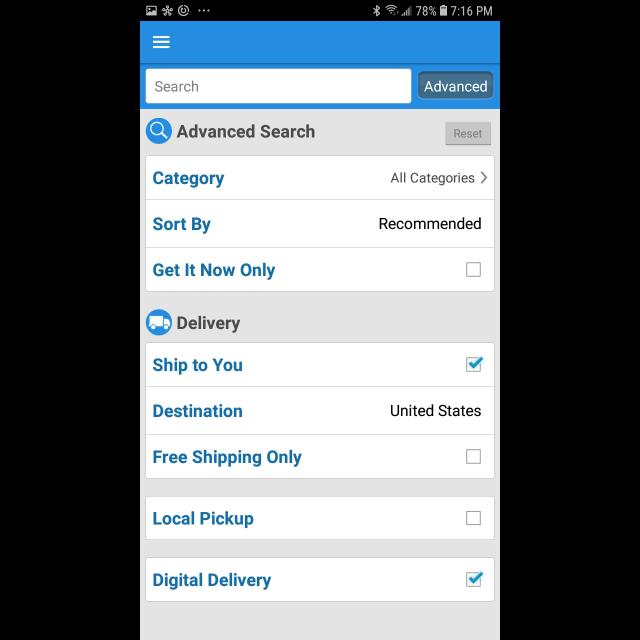checkbox: (466, 356, 482, 372), (466, 570, 482, 586), (466, 262, 480, 276), (466, 449, 480, 463), (466, 511, 480, 525)
icon: (146, 118, 174, 144), (154, 36, 170, 49), (480, 172, 488, 184)
image: (146, 308, 174, 336)
input: (145, 68, 411, 104)
text: (154, 449, 302, 466), (154, 263, 276, 281), (154, 573, 272, 591), (177, 124, 315, 138), (154, 512, 254, 528), (154, 358, 242, 374), (154, 404, 242, 418), (380, 218, 482, 230), (391, 172, 475, 186), (153, 172, 225, 188), (178, 315, 240, 333), (391, 404, 482, 416), (153, 218, 211, 235), (156, 81, 198, 92)
textbutton: (418, 72, 494, 100), (445, 122, 491, 146)
uppertaskbar: (140, 1, 500, 22)
